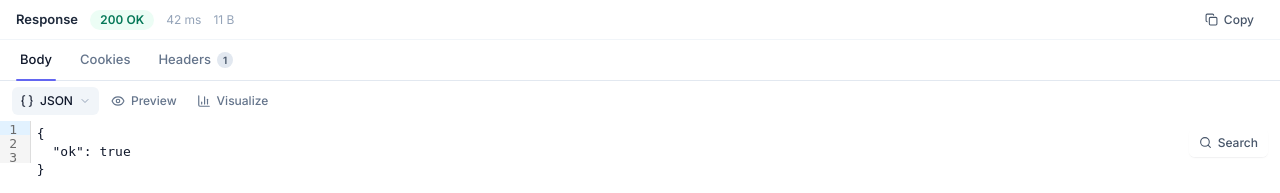
Scenario: ResponseViewer › switches to the Headers tab and lists response headers
Click the tab "Headers1": click(196, 60) [146,40,245,80]
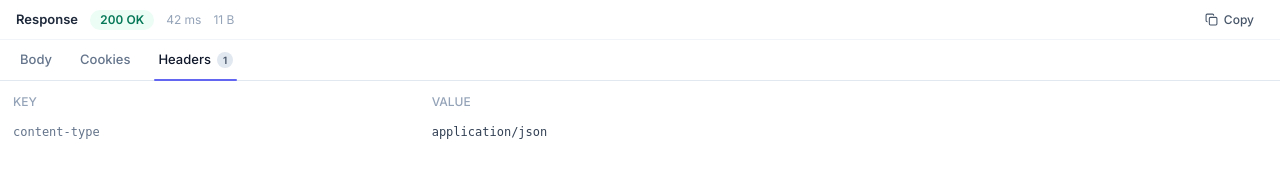
Expected: the text "content-type" is shown, [12,118,431,146]
Expected: the text "application/json" is shown, [431,118,1268,146]
